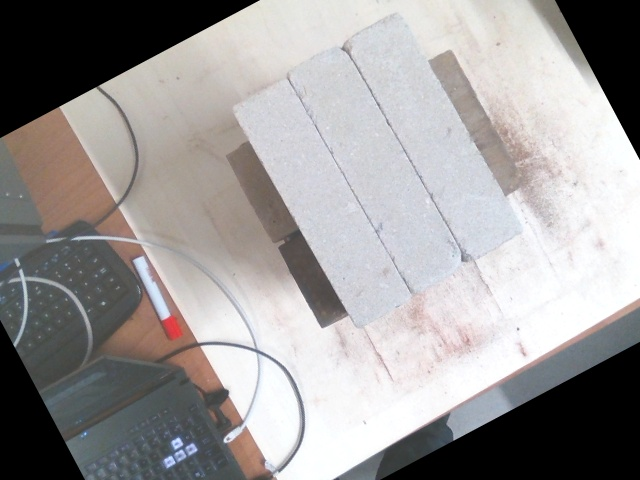brick-side: (288, 47, 469, 295), (344, 12, 524, 261), (231, 77, 411, 325)
